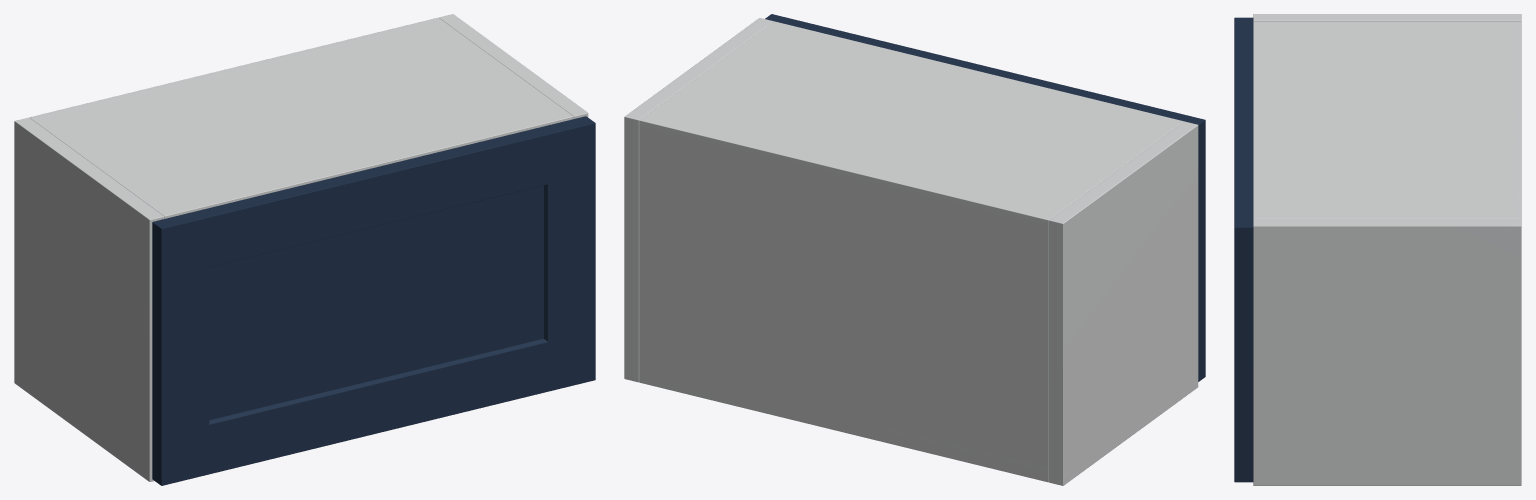
Rendered from oppein-pb-bss-w2112.glb.
3 renders of one model, left to right at view 1: azimuth 30°, elevation 25°; view 2: azimuth 150°, elevation 25°; view 3: azimuth 270°, elevation 25°, orthographic.
Parts seen in each view (by area): view 1: Door, Cabinet top, Cabinet side, Cabinet back, Cabinet side.001; view 2: Cabinet back, Cabinet top, Cabinet side, Cabinet side.001, Door, Cabinet bottom; view 3: Cabinet side.001, Cabinet top, Door, Cabinet back, Cabinet side.
Boxes of the visible parts, <box> form: Door: <box>152,116,595,485</box>; Cabinet top: <box>34,18,573,218</box>; Cabinet side: <box>14,117,164,481</box>; Cabinet back: <box>29,17,442,121</box>; Cabinet side.001: <box>439,14,588,118</box>; Cabinet back: <box>639,116,1053,482</box>; Cabinet top: <box>639,21,1183,234</box>; Cabinet side: <box>1048,121,1198,485</box>; Cabinet side.001: <box>624,18,773,382</box>; Door: <box>765,14,1205,381</box>; Cabinet bottom: <box>639,377,1048,482</box>; Cabinet side.001: <box>1253,219,1521,485</box>; Cabinet top: <box>1253,21,1520,218</box>; Door: <box>1234,17,1253,482</box>; Cabinet back: <box>1510,21,1521,219</box>; Cabinet side: <box>1253,14,1521,21</box>.
Size of the model in its own units: 0.5334 by 0.3048 by 0.3048.
